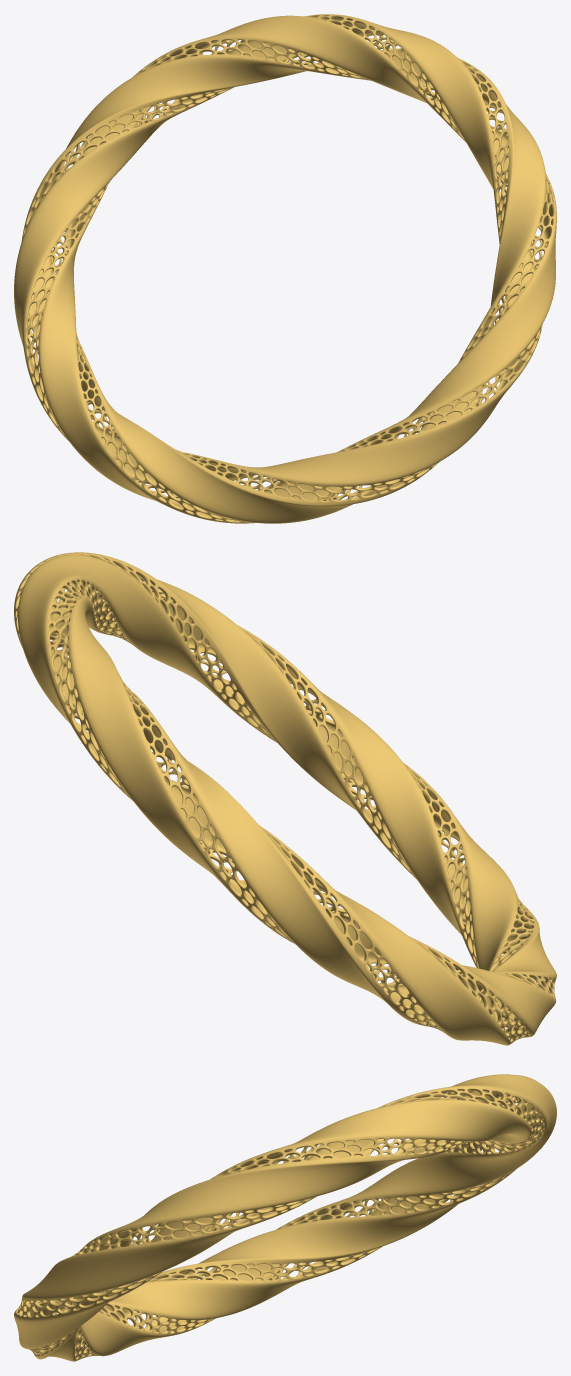
The model's file is jewel-5.glb.
3 renders of one model, top to bottom at view 1: azimuth 30°, elevation 25°; view 2: azimuth 150°, elevation 25°; view 3: azimuth 270°, elevation 25°, orthographic. The views are drawn at different scales.
Visible parts, largest first — view 1: Ring; view 2: Ring; view 3: Ring.
Boxes of the visible parts, x1,y1,x2,y2 form: Ring: (14,14,556,523); Ring: (14,552,556,1045); Ring: (14,1074,556,1361).
Size of the model in its own units: 0.1036 by 0.0812 by 0.1094.
